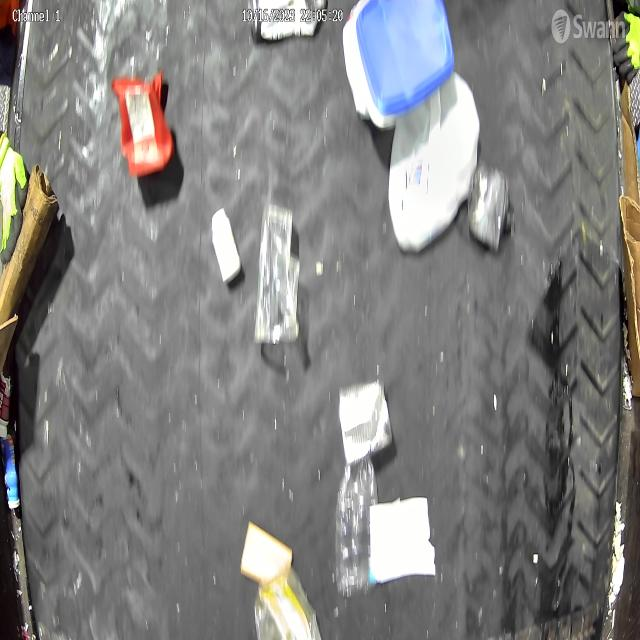can: (338, 380, 393, 465), (468, 160, 508, 253)
milk_jug: (388, 74, 479, 253)
plastic_bottle: (334, 456, 378, 596)
